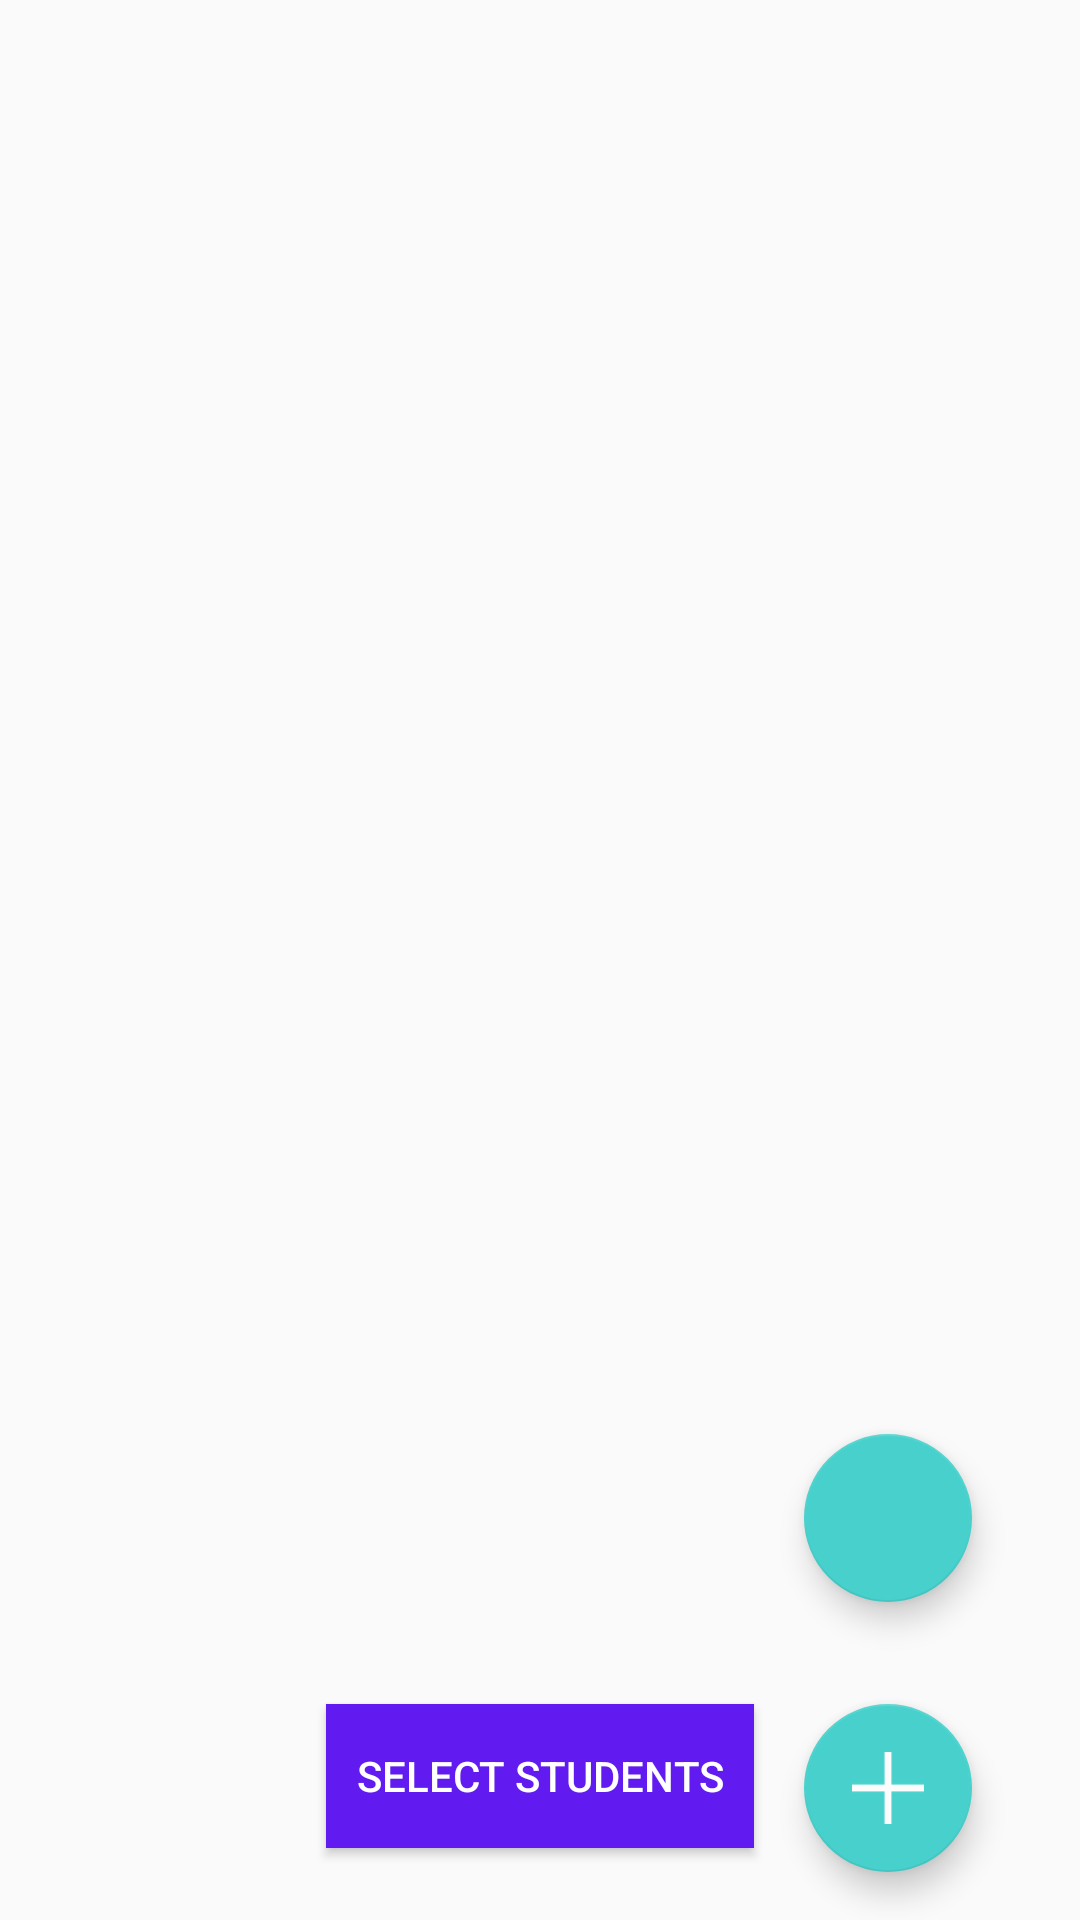

Named icons in this screenshot (1080 x 1920) and their centers, [x,y]:
add: [888,1788]
